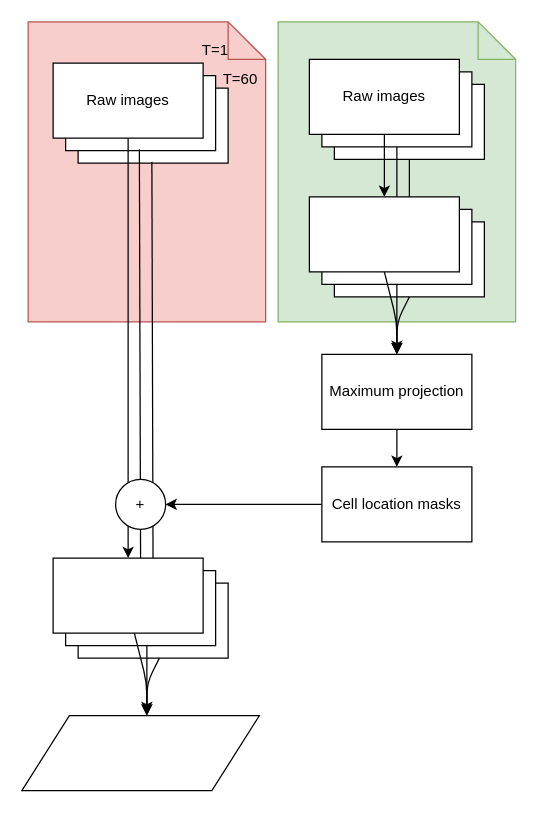
Image size: 538x813. Some labels were removed from this diagram. The centre of each missing label's shape, as x and y in pixels:
Denoised, thresholded images: point 383,234
Final cell intensity time series: point 140,752
Total cell intensities: point 127,595
